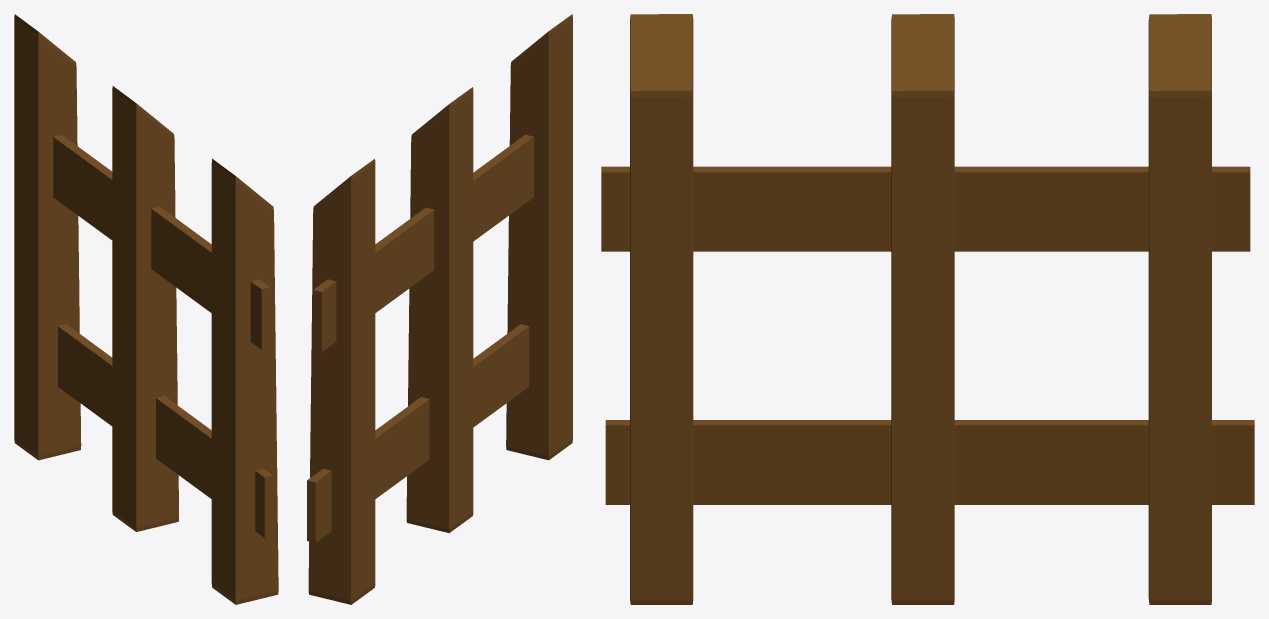
The model's file is woodfence.fbx.
3 renders of one model, left to right at view 1: azimuth 30°, elevation 25°; view 2: azimuth 150°, elevation 25°; view 3: azimuth 270°, elevation 25°, orthographic. The views are drawn at different scales.
Visible parts, largest first — view 1: Cube.003; view 2: Cube.003; view 3: Cube.003.
Part boxes in pixels (left/top/right/bottom): Cube.003: left=14, top=14, right=278, bottom=604; Cube.003: left=307, top=14, right=572, bottom=604; Cube.003: left=601, top=14, right=1254, bottom=604.
Size of the model in its own units: 30.86 by 293 by 307.
